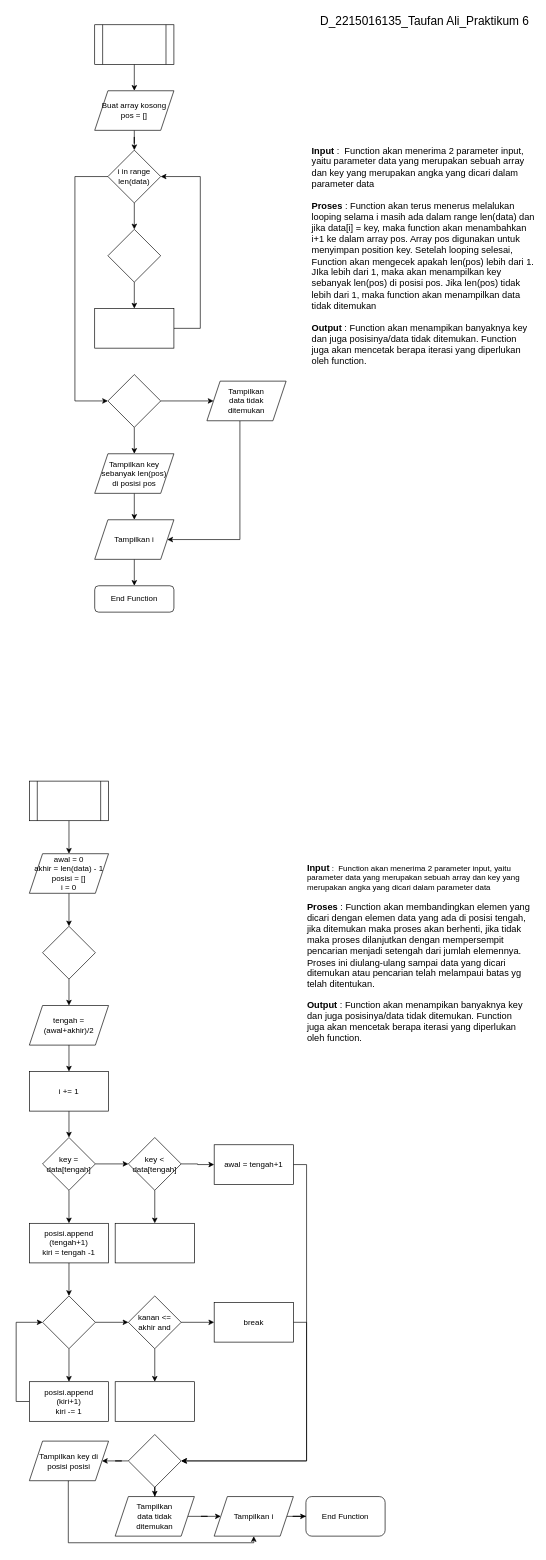
Image size: 546x1560. Some labels were removed from this diagram. Each missing label, with the box of its shape:
akhir = tengah-1: (115, 1223, 194, 1263)
awal <= akhir: (42, 926, 95, 979)
binsearch (data, key): (29, 780, 109, 821)
data[i] = key: (107, 229, 161, 282)
kiri = 0 and data[kiri] = key: (42, 1295, 95, 1349)
len(pos) > 1: (107, 374, 161, 427)
len(posisi) > 1: (128, 1434, 181, 1487)
pos.append(i+1): (94, 308, 174, 348)
posisi.append (kanan+1) kanan -= 1: (115, 1381, 194, 1421)
sequentialsearch (data, key): (94, 24, 174, 64)
